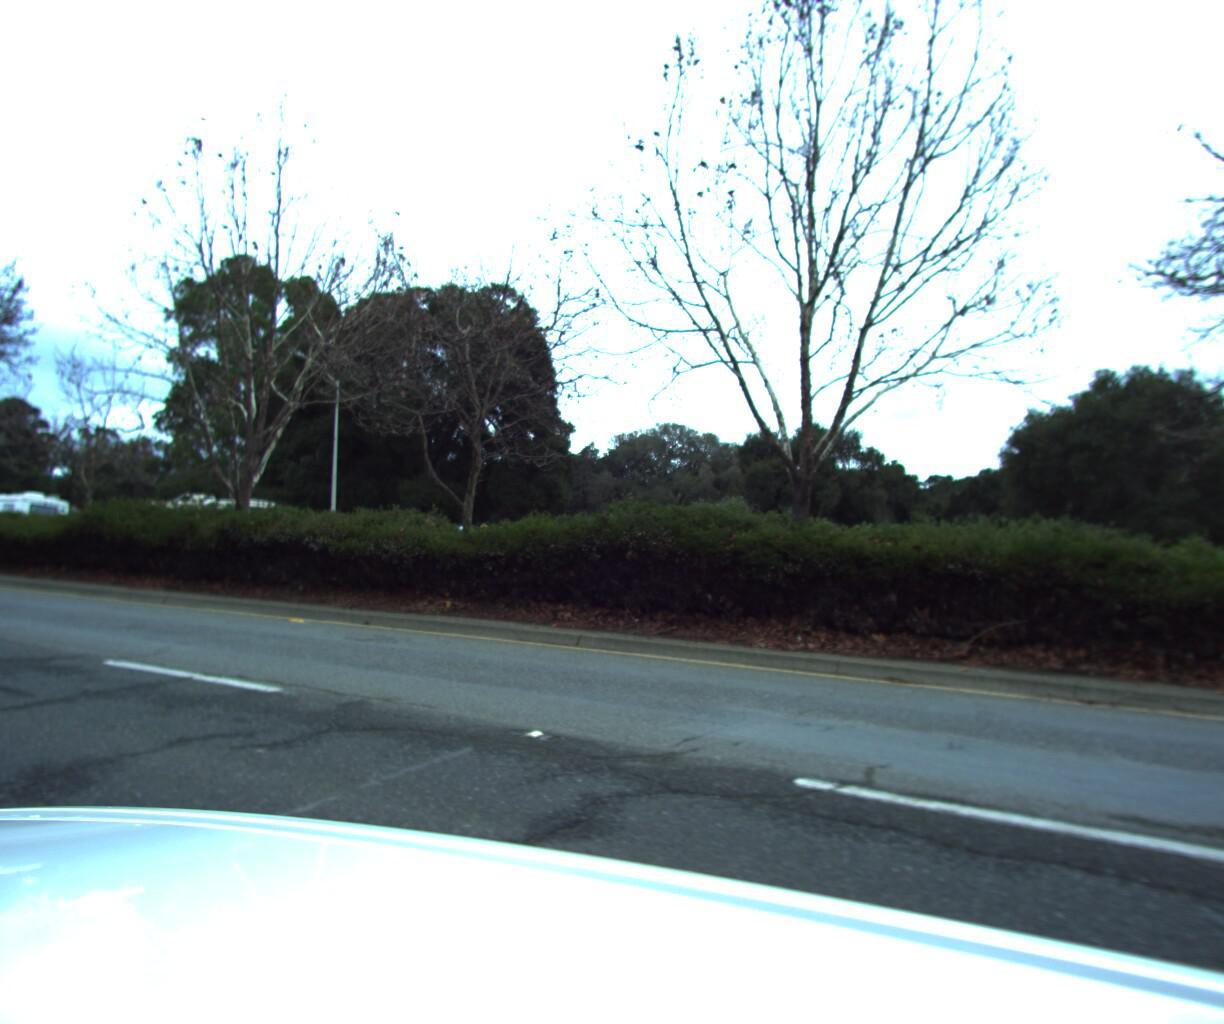other_vehicle: (118, 487, 287, 560), (0, 485, 74, 552)
